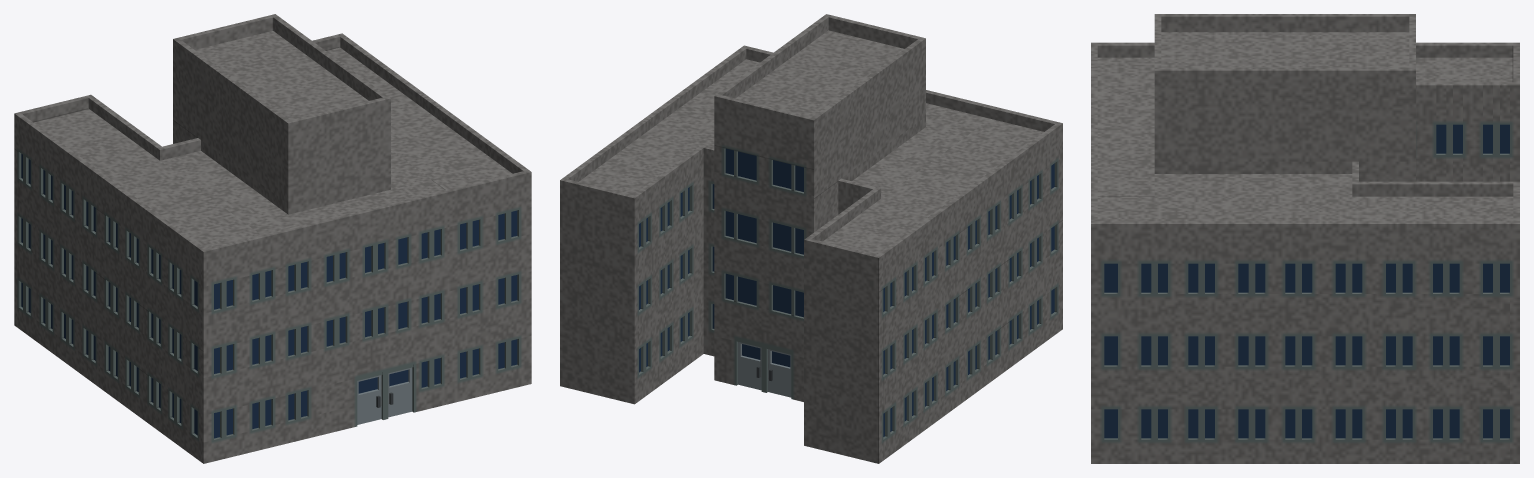
The model's file is sier_bud_new.dae.
The picture shows the model from 3 angles, left to right: view 1: azimuth 30°, elevation 25°; view 2: azimuth 150°, elevation 25°; view 3: azimuth 270°, elevation 25°; orthographic projection. The views are drawn at different scales.
Parts seen in each view (by area): view 1: Content; view 2: Content; view 3: Content.
Part boxes in pixels (left/top/right/bottom): Content: left=14, top=14, right=531, bottom=463; Content: left=560, top=14, right=1062, bottom=463; Content: left=1091, top=14, right=1519, bottom=463.
Size of the model in its own units: 128 by 109 by 128.
Materials: 1 (1 with a texture image).
